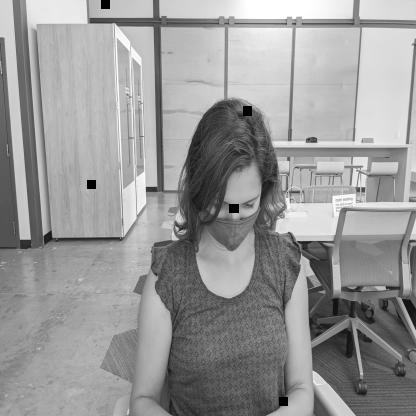mask: (194, 144, 266, 254)
